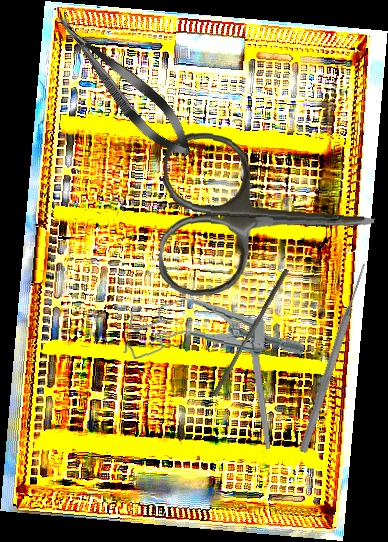Iris Scissors: (157, 129, 379, 306)
Micro Scissor: (45, 3, 203, 168)
Pusher: (297, 260, 371, 454), (210, 265, 290, 400)
Scalpel Handle: (245, 314, 273, 450)
Speculum: (122, 294, 307, 369)
